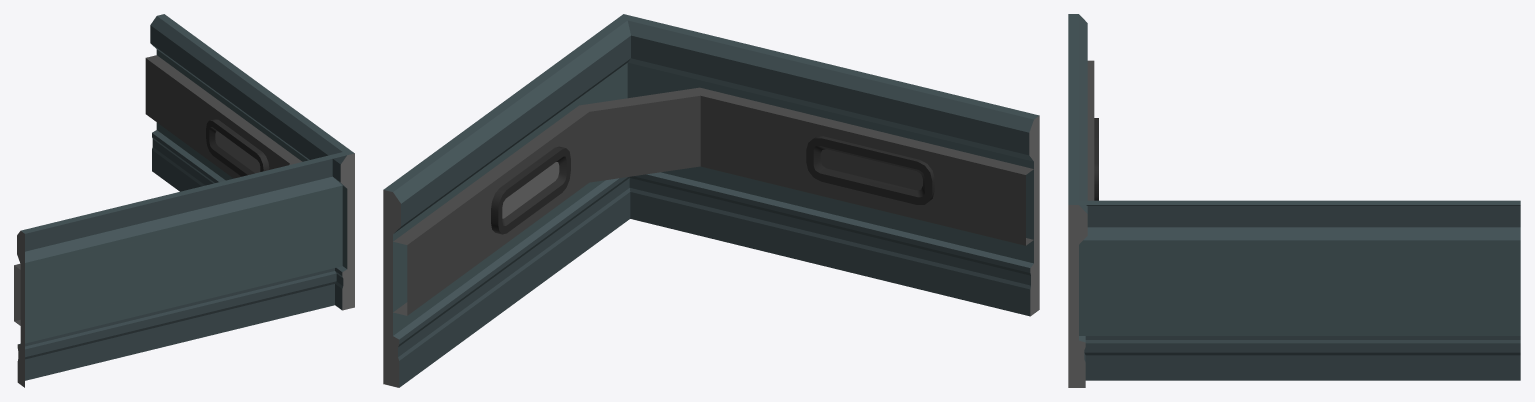
File: SM_cable_simple_013.fbx
The picture shows the model from 3 angles, left to right: view 1: azimuth 30°, elevation 25°; view 2: azimuth 150°, elevation 25°; view 3: azimuth 270°, elevation 25°; orthographic projection. The views are drawn at different scales.
Visible parts, largest first — view 1: SM_cable_simple_013; view 2: SM_cable_simple_013; view 3: SM_cable_simple_013.
Boxes of the visible parts, x1=… form: SM_cable_simple_013: x1=14, y1=14, x2=354, y2=387; SM_cable_simple_013: x1=383, y1=14, x2=1039, y2=387; SM_cable_simple_013: x1=1068, y1=14, x2=1520, y2=387.
Bounding box in the file's own units: 300 × 134 × 300.
2 materials, 2 textured.
